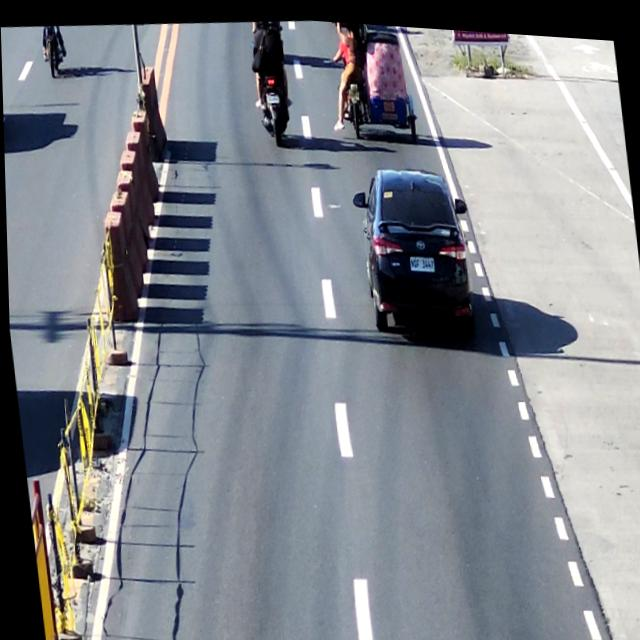Car: (352, 153, 479, 340)
License-Plate: (406, 244, 435, 272), (262, 85, 284, 105)
Motorcycle: (250, 29, 297, 145), (37, 23, 66, 77)
Tricycle: (327, 17, 418, 137)
